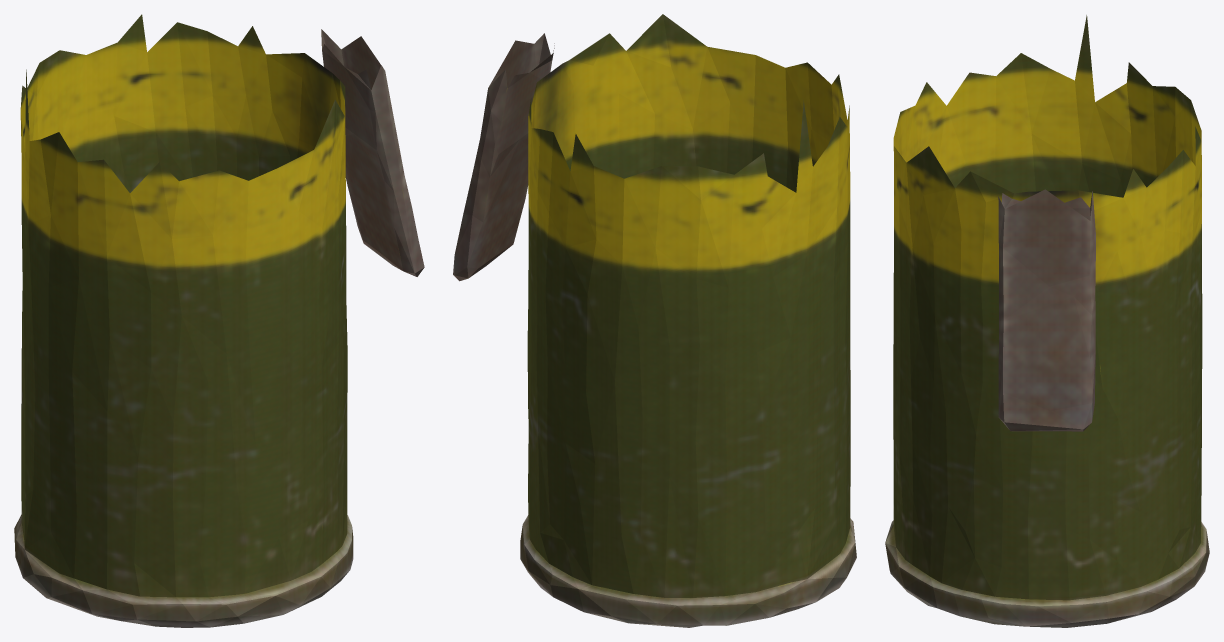
Rendered from marker_smoke.obj.
3 views of the same model, side by side, from view 1: azimuth 30°, elevation 25°; view 2: azimuth 150°, elevation 25°; view 3: azimuth 270°, elevation 25° (orthographic). The views are drawn at different scales.
Visible parts, largest first — view 1: marker_smoke; view 2: marker_smoke; view 3: marker_smoke.
Part boxes in pixels (box(x1,y1,x2,y2)): marker_smoke: box(14, 14, 424, 627); marker_smoke: box(453, 14, 856, 627); marker_smoke: box(885, 15, 1209, 627).
Bounding box in the file's own units: 0.3318 × 0.4429 × 0.2682.
1 material, 1 textured.
